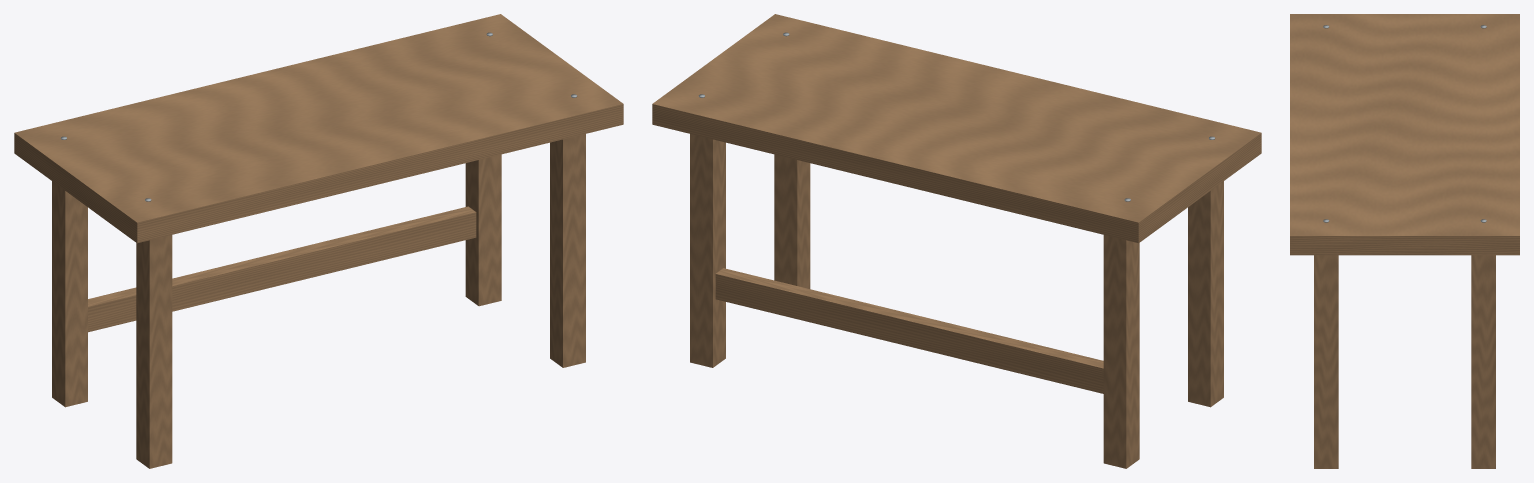
File: bench.glb
The picture shows the model from 3 angles, left to right: view 1: azimuth 30°, elevation 25°; view 2: azimuth 150°, elevation 25°; view 3: azimuth 270°, elevation 25°; orthographic projection. The views are drawn at different scales.
Parts seen in each view (by area): view 1: top, brace, leg, leg.002, leg.001, leg.003; view 2: top, brace, leg.001, leg.003, leg, leg.002; view 3: top, leg.002, leg.003.
Boxes of the visible parts, x1,y1,x2,y2 form: top: [14, 14, 623, 243]; brace: [88, 206, 476, 332]; leg: [136, 235, 172, 468]; leg.002: [550, 134, 585, 367]; leg.001: [52, 181, 87, 407]; leg.003: [465, 154, 501, 306]; top: [652, 14, 1261, 243]; brace: [715, 268, 1103, 393]; leg.001: [1103, 235, 1139, 468]; leg.003: [690, 134, 725, 367]; leg: [1188, 181, 1223, 407]; leg.002: [774, 154, 810, 288]; top: [1290, 14, 1519, 255]; leg.002: [1314, 255, 1338, 468]; leg.003: [1471, 255, 1495, 468].
Bounding box in the file's own units: 1.6 × 0.8275 × 0.7.
Materials: 2 (2 with a texture image).
